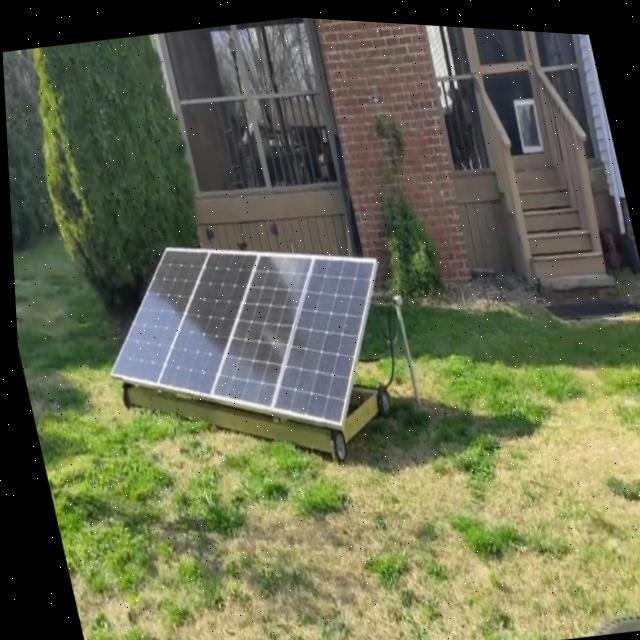Normal Solar Panel: (78, 203, 410, 463)
